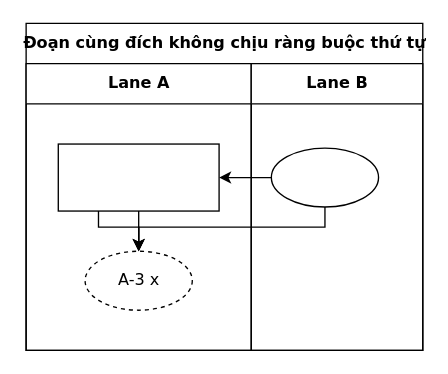
Image size: 448x374. Some labels were removed from this diagram. The shapes that lost their labels are listed below. From the top down, each one's centre as x and y in pixels, then its label:
At point (138, 177): "A-2 x".
At point (324, 177): "B-1 x".
